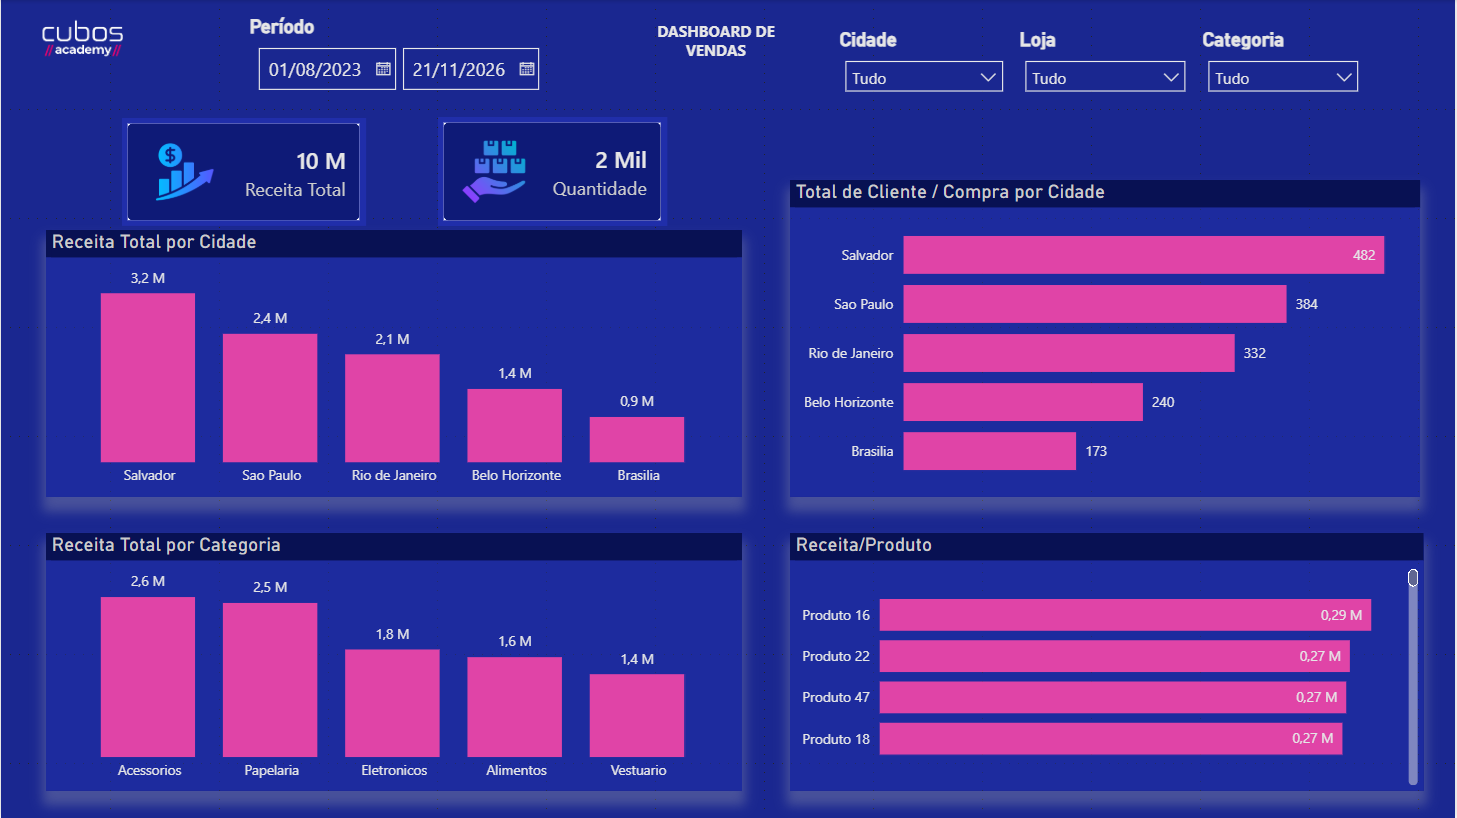

What the dashboard file says about the page in this screenshot:
{"tool":"powerbi","page":{"name":"Página 1","canvas":[1280,720],"ordinal":0},"visuals":[{"type":"slicer","title":"Período","fields":{"Values":["transacoes.Data_Transação"]},"box":[214,13.2,272.1,78.4],"z":0},{"type":"slicer","title":"Cidade","fields":{"Values":["lojas.Estado"]},"box":[733.7,24.7,158.5,79.3],"z":1000},{"type":"slicer","title":"Loja","fields":{"Values":["lojas.Nome_Loja"]},"box":[892.2,24.7,161.2,79.3],"z":2000},{"type":"slicer","title":"Categoria","fields":{"Values":["produtos.Categoria"]},"box":[1053.4,24.7,152.4,79.3],"z":3000},{"type":"clusteredColumnChart","fields":{"Category":["lojas.Cidade"],"Y":["transacoes.Receita"]},"box":[39.8,202.9,613.1,234.6],"z":4000},{"type":"clusteredColumnChart","fields":{"Y":["transacoes.Receita"],"Category":["produtos.Categoria"]},"box":[39.8,469.1,613.1,227.3],"z":5000},{"type":"clusteredBarChart","title":"Total de Cliente / Compra por Cidade","fields":{"Category":["lojas.Cidade"],"Y":["Count(transacoes.ID_Membro)"]},"box":[694.6,158.5,555.2,278.9],"z":6000},{"type":"clusteredBarChart","title":"Receita/Produto","fields":{"Y":["transacoes.Receita"],"Category":["produtos.Nome_Produto"]},"box":[694.6,469.1,557.9,227.3],"z":7000},{"type":"cardVisual","fields":{"Data":["transacoes.Receita Total"]},"box":[106.6,103.9,214.9,95.1],"z":8000},{"type":"cardVisual","fields":{"Data":["transacoes.Quantidade"]},"box":[384.9,103,201.7,96],"z":9000},{"type":"image","box":[399,122.4,69.6,58.1],"z":10000},{"type":"image","box":[0,0,143.6,72.2],"z":11000},{"type":"textbox","box":[564.6,13.2,130.3,65.2],"z":12000},{"type":"image","box":[126.8,122.4,69.6,58.1],"z":13000}]}

Visuals, with their boxes in screenshot pixels (x1, y1, x2, y2), scaled from the page's 1280x720 canvas onto the 1457x818 screenshot:
"Período" slicer: BBox(244, 15, 553, 104)
"Cidade" slicer: BBox(835, 28, 1016, 118)
"Loja" slicer: BBox(1016, 28, 1199, 118)
"Categoria" slicer: BBox(1199, 28, 1373, 118)
clusteredColumnChart - lojas.Cidade x transacoes.Receita: BBox(45, 231, 743, 497)
clusteredColumnChart - transacoes.Receita x produtos.Categoria: BBox(45, 533, 743, 791)
"Total de Cliente / Compra por Cidade" clusteredBarChart: BBox(791, 180, 1423, 497)
"Receita/Produto" clusteredBarChart: BBox(791, 533, 1426, 791)
cardVisual - transacoes.Receita Total: BBox(121, 118, 366, 226)
cardVisual - transacoes.Quantidade: BBox(438, 117, 668, 226)
image: BBox(454, 139, 533, 205)
image: BBox(0, 0, 163, 82)
textbox: BBox(643, 15, 791, 89)
image: BBox(144, 139, 224, 205)
